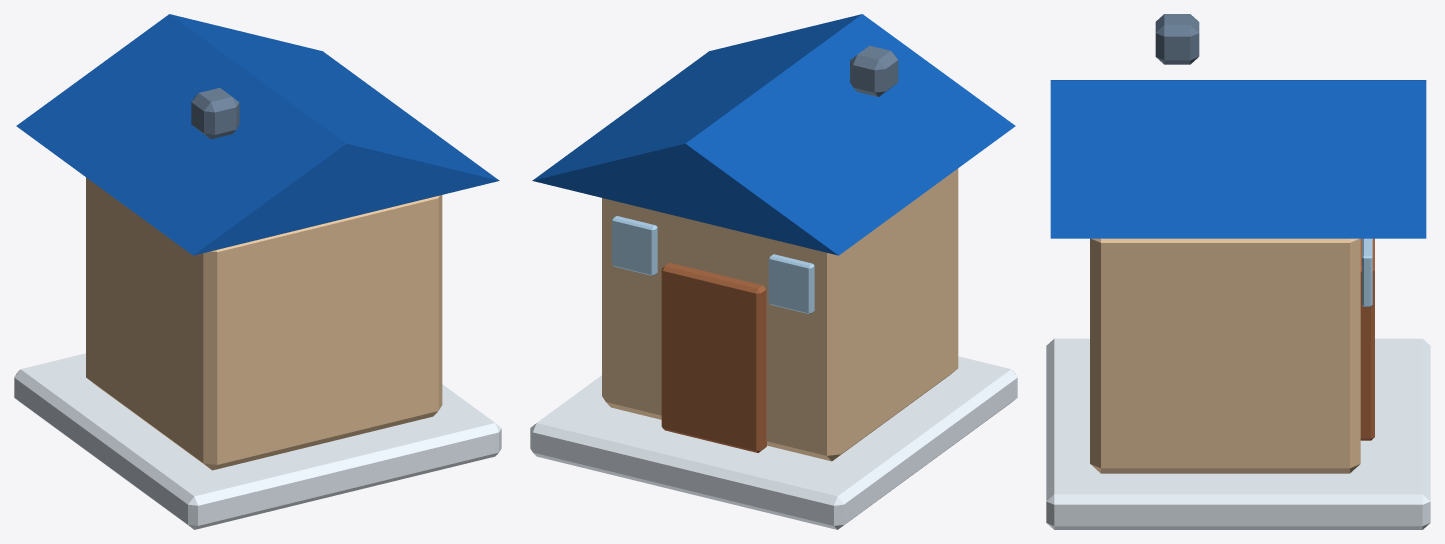
File: Building_Dormitory_1x1_v001.fbx
3 views of the same model, side by side, from view 1: azimuth 30°, elevation 25°; view 2: azimuth 150°, elevation 25°; view 3: azimuth 270°, elevation 25° (orthographic). The views are drawn at different scales.
Visible parts, largest first — view 1: Walls, Roof, Foundation, Chimney; view 2: Roof, Walls, Foundation, Door_Anim, Window.001, Window, Chimney; view 3: Walls, Roof, Foundation, Door_Anim, Chimney, Window.
Boxes of the visible parts, x1,y1,x2,y2 form: Walls: (86, 177, 442, 470); Roof: (16, 14, 499, 255); Foundation: (14, 353, 501, 529); Chimney: (191, 88, 239, 139); Roof: (532, 14, 1015, 255); Walls: (602, 168, 958, 461); Foundation: (530, 356, 1017, 529); Door_Anim: (661, 262, 766, 452); Window.001: (768, 254, 814, 314); Window: (612, 216, 657, 275); Chimney: (850, 45, 898, 96); Walls: (1090, 238, 1360, 473); Roof: (1050, 80, 1426, 238); Foundation: (1046, 338, 1430, 529); Door_Anim: (1360, 238, 1374, 440); Chimney: (1155, 14, 1199, 64); Window: (1362, 238, 1372, 306).
Size of the model in its own units: 88 by 100 by 88.
